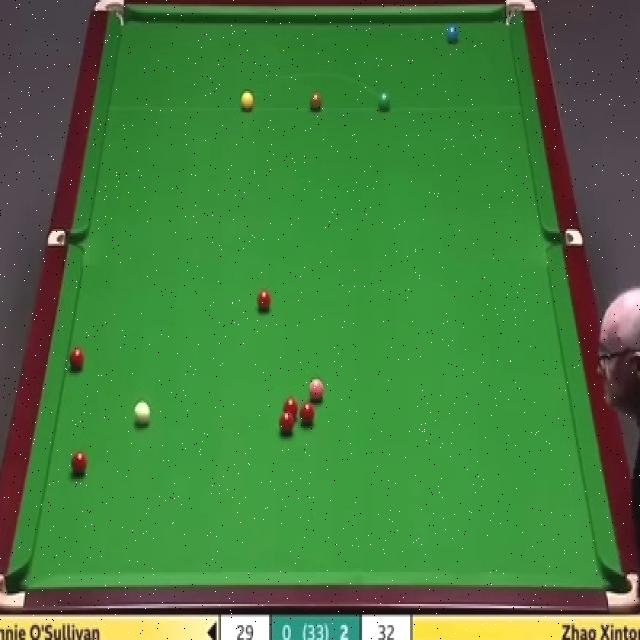blue-ball: (447, 24, 458, 46)
brown-ball: (309, 93, 323, 111)
green-ball: (377, 89, 392, 114)
pink-ball: (308, 376, 325, 402)
red-ball: (66, 346, 85, 373), (69, 451, 87, 474), (299, 402, 316, 426), (283, 396, 298, 422), (255, 290, 272, 311), (279, 412, 294, 434)
white-ball: (133, 400, 152, 430)
yellow-ball: (240, 90, 254, 112)
